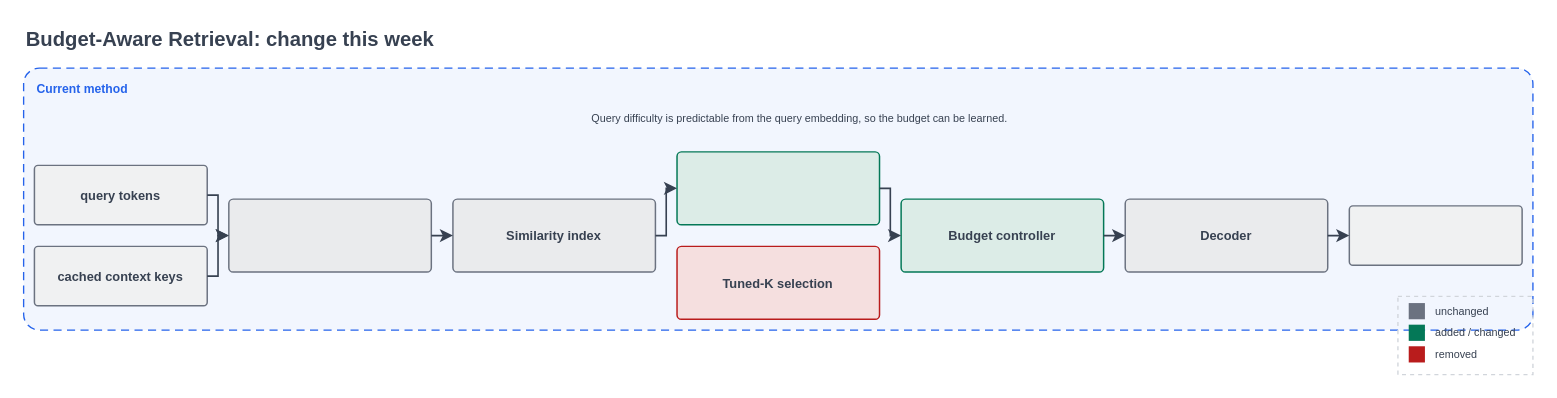
Image size: 1557x398. Some labels were removed from this diagram. Here are the shapes that lost their labels. From the top down, the centre of each, then its label:
point (778, 188): Learned router
point (329, 235): Backbone encoder
point (1435, 235): answer tokens
